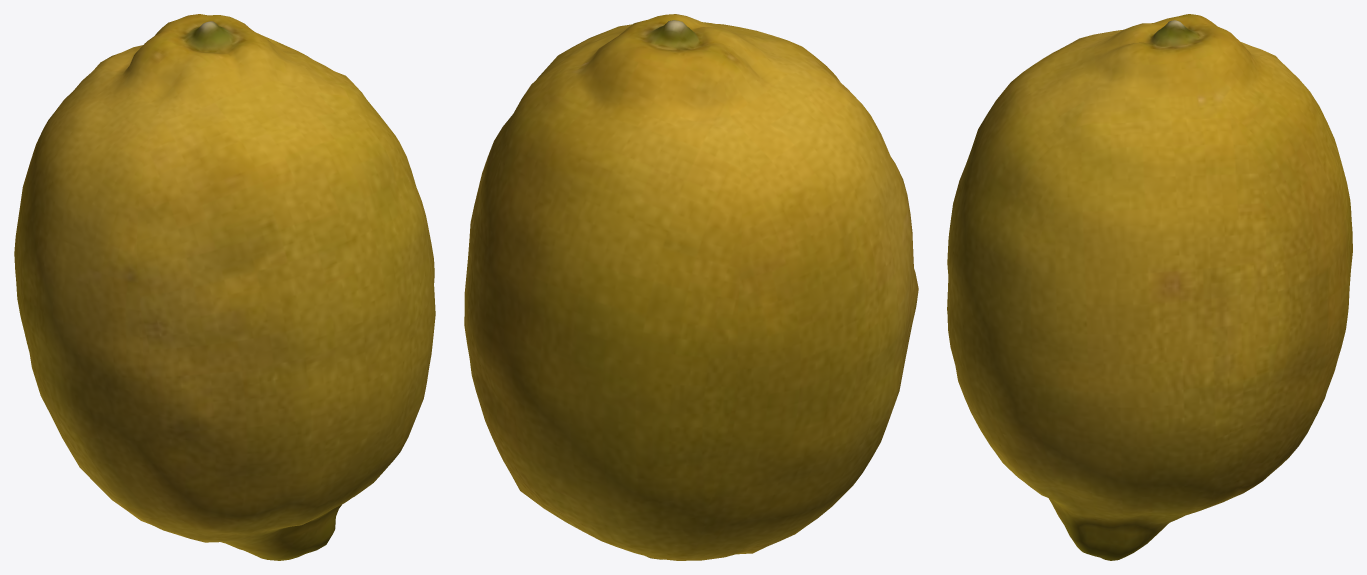
Rendered from lemon.glb.
3 renders of one model, left to right at view 1: azimuth 30°, elevation 25°; view 2: azimuth 150°, elevation 25°; view 3: azimuth 270°, elevation 25°, orthographic. The views are drawn at different scales.
Parts seen in each view (by area): view 1: lemon; view 2: lemon; view 3: lemon.
Boxes of the visible parts, left/top/right/bottom form: lemon: left=14, top=14, right=435, bottom=560; lemon: left=464, top=14, right=918, bottom=560; lemon: left=947, top=14, right=1352, bottom=560.
Bounding box in the file's own units: 0.0687 × 0.0954 × 0.0683.
Materials: 1 (1 with a texture image).
